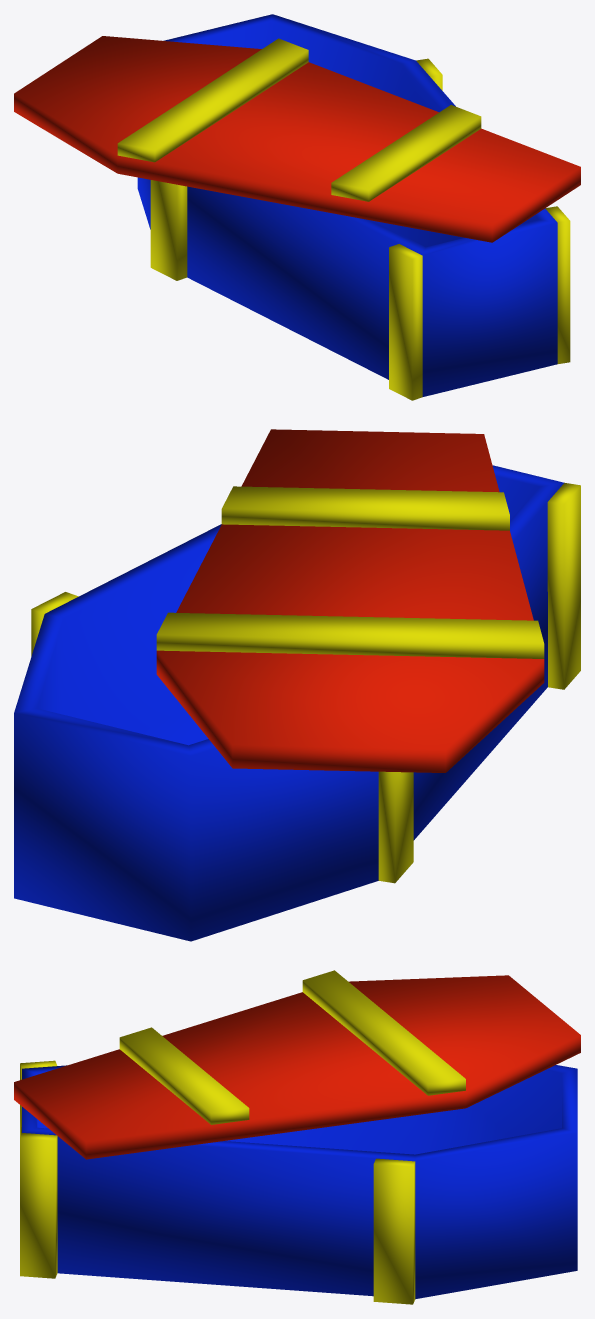
3 renders of one model, top to bottom at view 1: azimuth 30°, elevation 25°; view 2: azimuth 150°, elevation 25°; view 3: azimuth 270°, elevation 25°, orthographic. The views are drawn at different scales.
Visible parts, largest first — view 1: Casket_lp; view 2: Casket_lp; view 3: Casket_lp.
Part boxes in pixels (bbox=[...]): Casket_lp: bbox=[14, 14, 580, 400]; Casket_lp: bbox=[14, 429, 580, 941]; Casket_lp: bbox=[14, 970, 580, 1304].
Size of the model in its own units: 1.45 by 0.6514 by 2.
